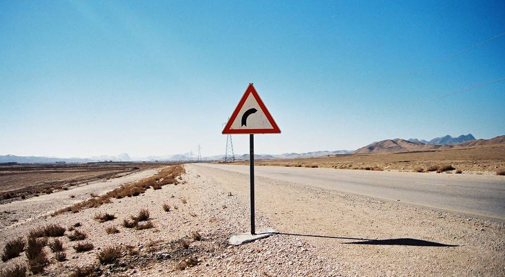Bend_to_right: (220, 82, 281, 137)
